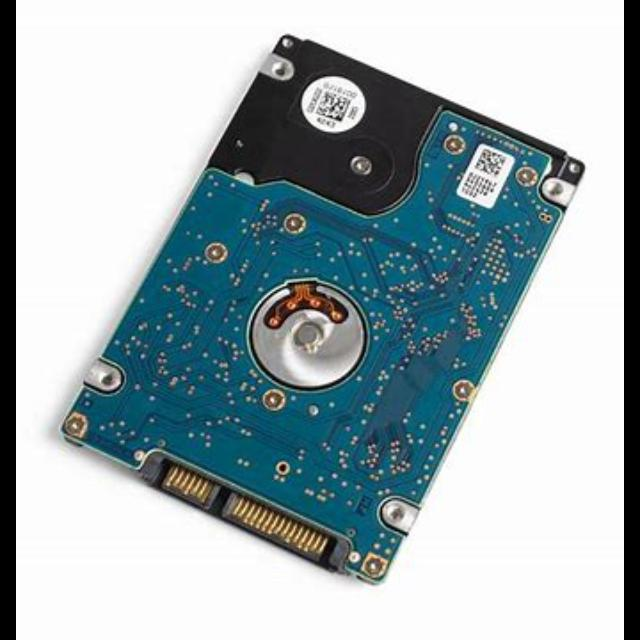HDD: (59, 36, 587, 587)
